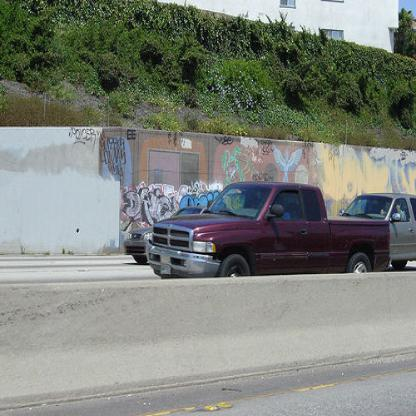car: (145, 180, 390, 278), (326, 192, 415, 268), (124, 207, 210, 266)
